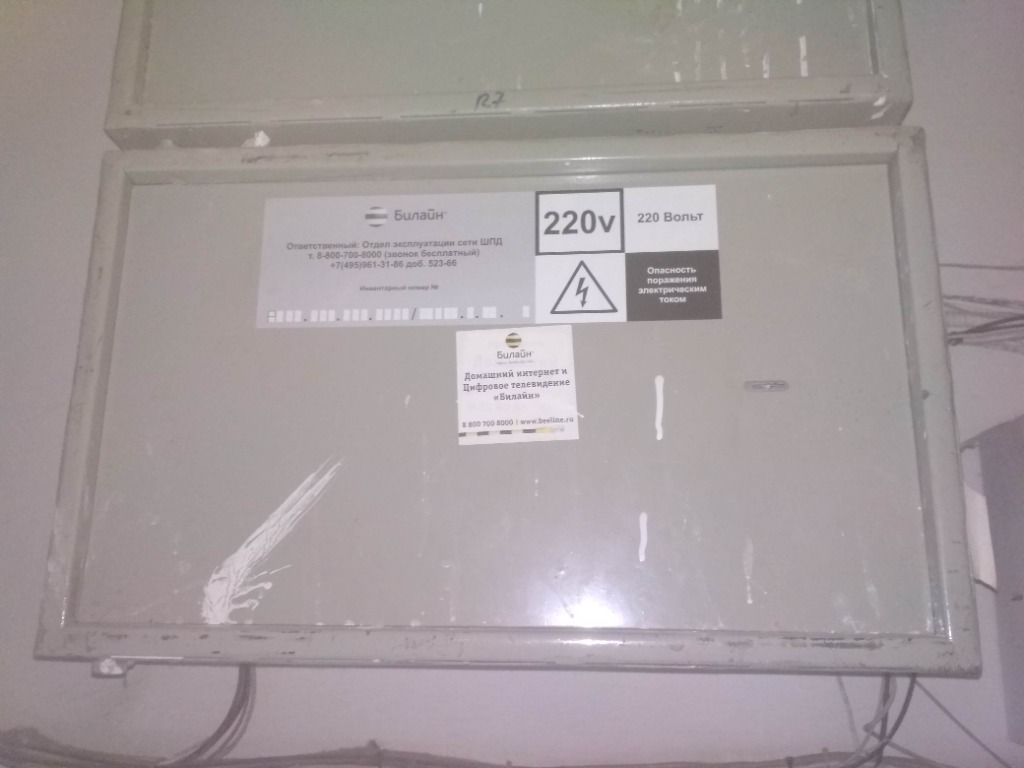e2-6u: (28, 120, 992, 678)
